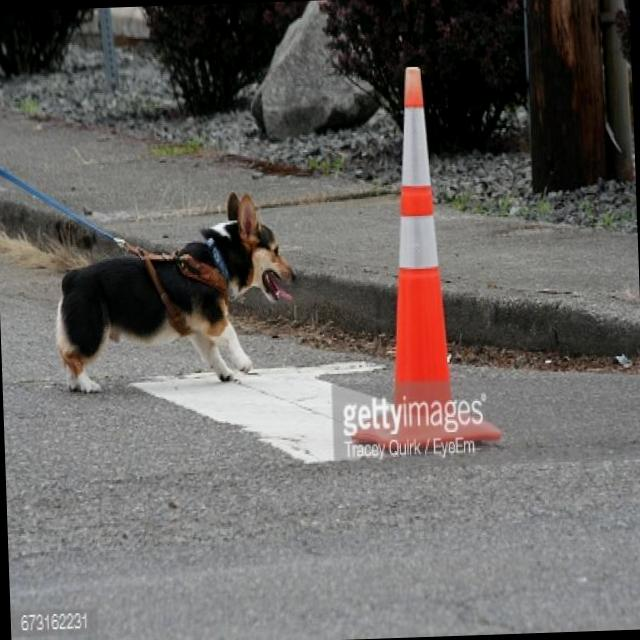Cone: (351, 40, 491, 478)
